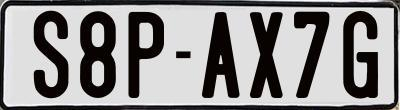7: (293, 12, 328, 101)
8: (77, 8, 117, 98)
A: (202, 9, 245, 99)
G: (343, 11, 380, 100)
P: (125, 12, 167, 98)
S: (31, 9, 70, 97)
X: (248, 9, 286, 95)
